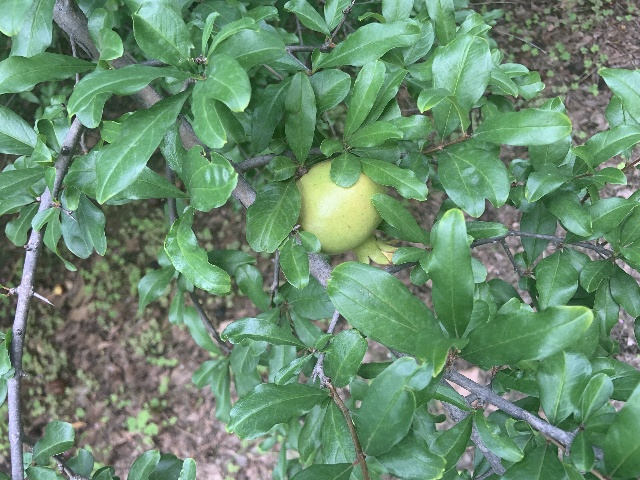mid-growth: (295, 158, 401, 266)
